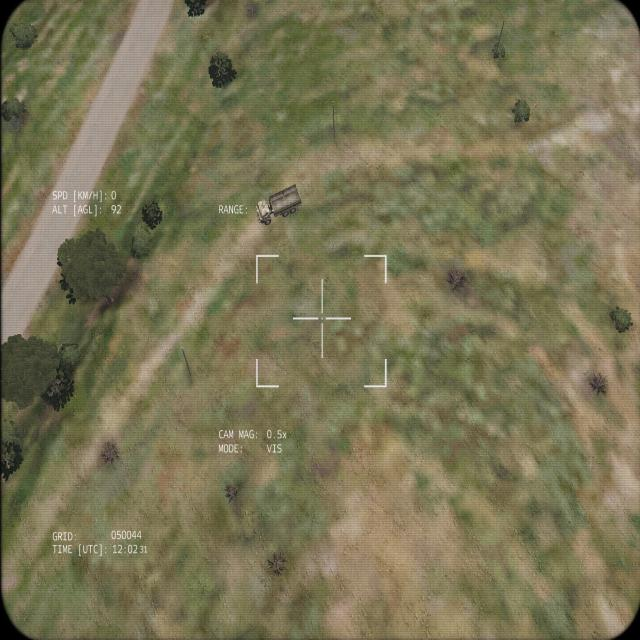truck: (255, 182, 302, 225)
